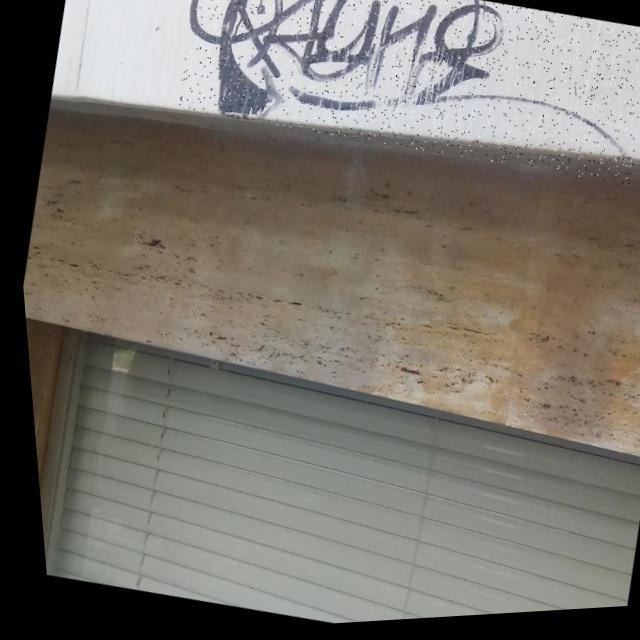-: (167, 0, 640, 213)
